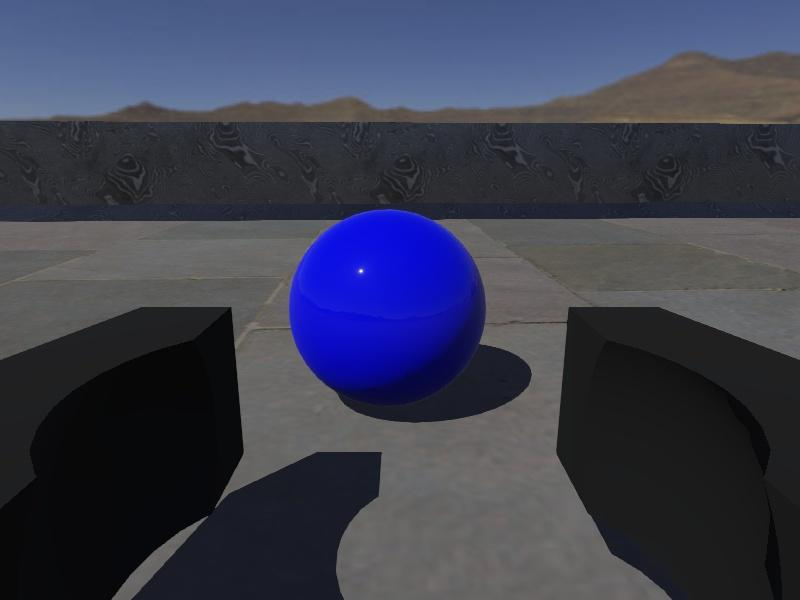blue ball: (288, 208, 486, 407)
